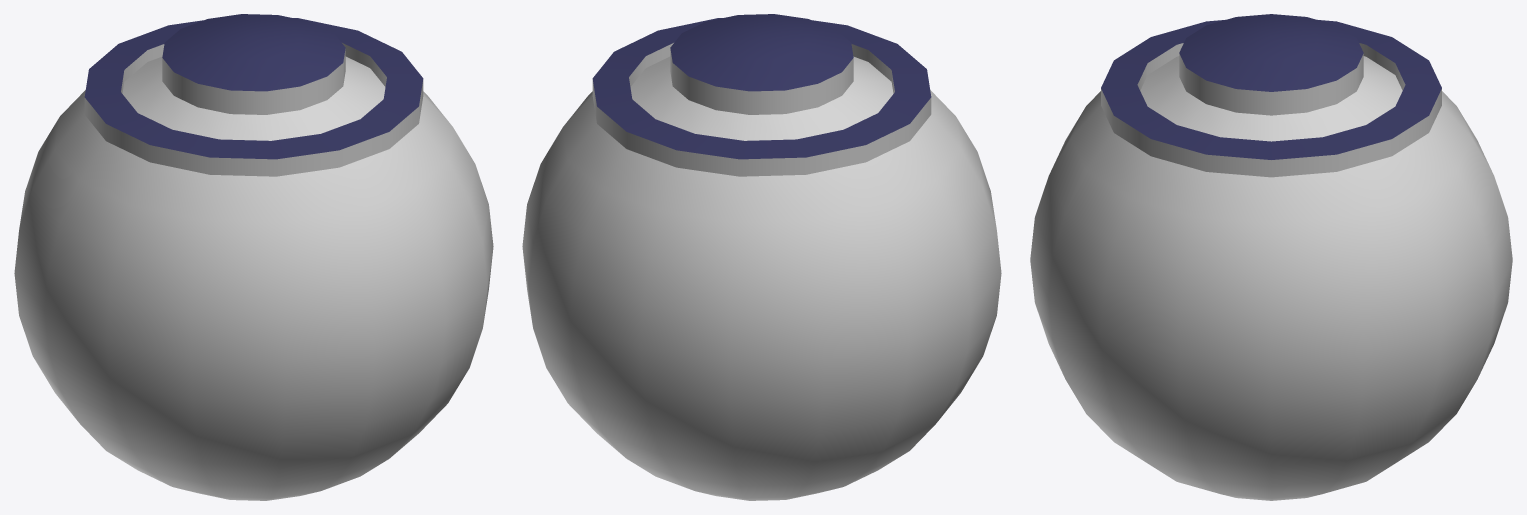
Rendered from bigbosseye.fbx.
The picture shows the model from 3 angles, left to right: view 1: azimuth 30°, elevation 25°; view 2: azimuth 150°, elevation 25°; view 3: azimuth 270°, elevation 25°; orthographic projection.
Parts seen in each view (by area): view 1: bigBossEye; view 2: bigBossEye; view 3: bigBossEye.
Part boxes in pixels (box(x1,y1,x2,y2)): bigBossEye: box(14, 14, 493, 500); bigBossEye: box(522, 14, 1001, 500); bigBossEye: box(1030, 14, 1512, 500).
Bounding box in the file's own units: 0.7315 × 0.7397 × 0.7315.
